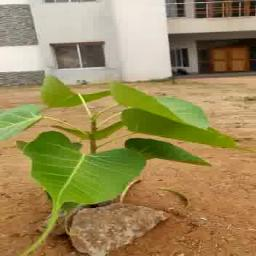LEAVS: (10, 70, 236, 205)
